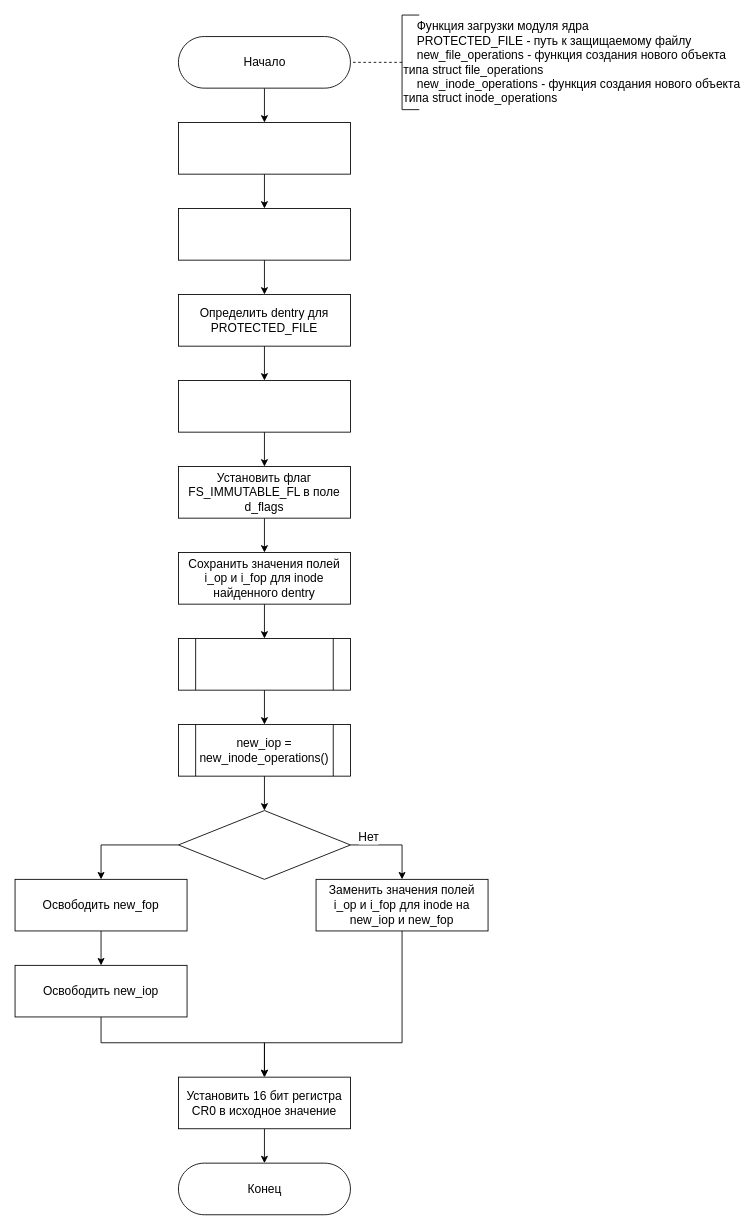
Some shapes in this 756 by 1230 pixel diagram are drawn without their labels. Here are the shapes that lost their labels. From the top down, the box of each, then its label:
(178, 122, 350, 174): Сохранить значение 16 бита регистра CR0
(178, 208, 350, 260): Сбросить 16 бит регистра CR0
(178, 380, 350, 432): Сохранить значение поля d_flags найденного dentry
(178, 638, 350, 690): new_fop = new_file_operations()
(178, 810, 350, 879): new_fop == NULL или new_iop == NULL
